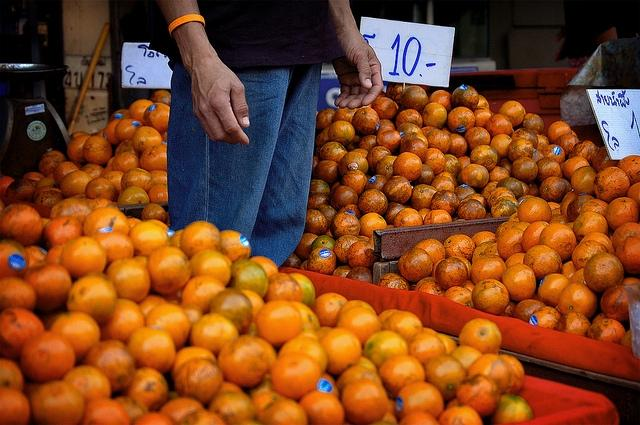orange: (44, 311, 102, 364), (216, 336, 270, 388), (84, 339, 136, 392), (66, 273, 118, 325), (20, 332, 74, 382), (172, 358, 224, 407), (269, 352, 321, 400), (30, 380, 84, 425), (21, 263, 70, 312), (126, 325, 176, 373), (0, 307, 45, 360), (145, 246, 192, 296), (145, 303, 192, 352), (256, 299, 303, 347), (339, 378, 388, 424), (122, 366, 170, 412), (190, 312, 240, 356), (456, 373, 502, 420), (99, 298, 145, 345), (378, 354, 426, 398), (276, 335, 328, 375), (208, 288, 253, 334), (59, 237, 107, 280), (106, 257, 150, 303), (335, 305, 381, 349), (424, 354, 468, 400), (318, 328, 362, 374), (61, 366, 112, 404), (88, 226, 134, 268), (0, 204, 44, 246), (363, 330, 409, 370), (468, 353, 512, 394), (226, 258, 268, 300), (181, 275, 226, 314), (396, 381, 442, 419), (179, 220, 222, 260), (583, 252, 625, 292), (299, 390, 346, 425), (538, 222, 578, 262), (170, 346, 217, 380), (190, 248, 232, 286), (128, 221, 170, 258), (460, 317, 502, 354), (208, 392, 256, 424), (82, 206, 132, 236), (557, 282, 597, 319), (406, 331, 446, 367), (472, 278, 509, 316), (310, 292, 349, 328), (382, 310, 422, 345), (523, 245, 563, 280), (336, 364, 384, 393), (594, 166, 630, 204), (43, 216, 83, 250), (80, 399, 131, 425), (256, 399, 308, 424), (502, 263, 536, 301), (158, 396, 204, 424), (262, 272, 302, 304), (1, 276, 37, 311), (398, 247, 433, 283), (492, 394, 534, 424), (605, 197, 640, 231), (0, 239, 29, 280), (51, 198, 92, 226), (0, 387, 30, 425), (600, 284, 630, 322), (32, 300, 70, 330), (538, 273, 570, 308), (573, 210, 608, 242), (470, 254, 507, 284), (112, 396, 150, 425), (434, 258, 468, 290), (572, 240, 608, 270), (220, 230, 252, 263), (449, 346, 482, 378), (500, 354, 525, 395), (136, 294, 170, 324), (587, 318, 626, 344), (289, 301, 321, 332), (412, 239, 446, 268), (288, 272, 315, 308), (496, 228, 526, 260), (517, 197, 552, 224), (347, 240, 379, 269), (554, 312, 591, 337), (522, 220, 550, 253), (60, 170, 93, 198), (616, 237, 640, 275), (393, 152, 423, 182), (330, 212, 361, 241), (579, 232, 616, 256), (85, 176, 119, 202), (120, 168, 154, 194), (306, 247, 336, 276), (132, 126, 162, 155), (314, 160, 343, 190), (444, 233, 475, 261), (143, 102, 170, 134), (0, 358, 25, 392), (535, 156, 563, 186), (351, 106, 381, 134), (566, 194, 596, 222), (612, 222, 640, 252), (470, 144, 500, 172), (358, 188, 388, 216), (430, 190, 461, 217), (513, 299, 547, 323), (616, 154, 640, 188), (240, 289, 264, 323), (528, 306, 562, 330), (83, 136, 112, 164), (383, 176, 412, 204), (338, 169, 368, 196), (437, 404, 482, 422), (571, 166, 598, 196), (175, 410, 228, 425), (139, 144, 167, 172), (539, 176, 567, 204), (334, 235, 361, 264), (38, 150, 68, 176), (338, 152, 368, 178), (4, 179, 36, 203), (400, 137, 428, 164), (511, 156, 538, 184), (592, 146, 620, 173), (450, 86, 480, 111), (411, 184, 438, 211), (571, 140, 598, 167), (498, 100, 524, 128), (359, 212, 387, 238), (330, 186, 358, 212), (54, 161, 82, 187), (67, 134, 92, 163), (115, 118, 144, 143), (399, 86, 428, 111), (422, 102, 448, 129), (302, 209, 328, 236), (448, 107, 476, 132), (328, 121, 356, 146), (294, 233, 318, 262), (249, 256, 278, 280), (314, 372, 340, 398), (422, 148, 447, 175), (563, 155, 590, 180), (485, 113, 513, 137), (428, 90, 456, 114), (461, 164, 489, 188), (487, 187, 516, 210), (444, 286, 474, 308), (112, 152, 142, 174), (367, 146, 392, 172), (464, 126, 491, 150), (507, 138, 534, 162), (496, 177, 524, 200), (491, 196, 520, 218), (316, 204, 338, 233), (376, 128, 402, 152), (409, 164, 435, 188), (552, 134, 580, 156), (320, 142, 348, 164), (458, 198, 486, 220), (102, 118, 124, 146), (34, 186, 62, 208), (377, 272, 411, 290), (118, 186, 150, 205), (128, 99, 152, 124), (394, 208, 424, 228), (444, 133, 468, 158), (546, 121, 572, 144), (426, 130, 450, 154), (249, 374, 273, 398), (382, 201, 406, 225), (399, 410, 440, 424), (182, 302, 204, 328), (371, 98, 397, 120), (580, 199, 609, 218), (132, 412, 177, 424), (520, 112, 544, 134), (490, 134, 512, 158), (377, 155, 398, 180), (103, 170, 124, 195), (512, 128, 538, 148), (464, 193, 490, 213), (396, 108, 422, 128), (309, 235, 336, 254), (67, 194, 99, 210), (472, 242, 495, 264), (346, 266, 373, 284), (416, 282, 446, 298), (316, 108, 336, 132), (364, 174, 388, 194), (217, 380, 245, 397), (560, 190, 578, 216), (44, 243, 66, 264), (436, 333, 457, 355), (542, 144, 565, 164), (442, 154, 461, 178), (471, 230, 496, 248), (141, 204, 166, 222), (333, 107, 358, 125), (400, 132, 428, 148), (496, 220, 518, 240), (473, 106, 493, 128), (424, 210, 453, 225), (116, 139, 140, 157), (431, 175, 455, 193), (308, 179, 330, 198), (356, 356, 378, 374), (397, 122, 423, 137), (80, 163, 104, 179), (24, 246, 48, 262), (315, 127, 329, 154), (147, 184, 168, 202), (488, 166, 511, 182), (560, 260, 578, 280), (150, 90, 172, 106), (504, 252, 526, 268), (454, 184, 476, 200), (481, 181, 499, 200), (568, 268, 587, 286), (358, 134, 377, 152), (280, 254, 302, 269), (376, 119, 396, 135), (482, 242, 502, 258), (0, 176, 15, 197), (314, 327, 335, 342), (626, 182, 640, 204), (378, 309, 399, 323), (23, 382, 44, 396), (148, 170, 167, 185), (528, 179, 542, 198), (157, 293, 181, 304), (332, 266, 353, 278), (620, 328, 632, 348), (110, 109, 130, 121), (22, 172, 46, 182), (457, 155, 471, 172), (536, 134, 550, 150), (388, 398, 398, 419), (126, 215, 142, 228), (532, 148, 545, 162), (478, 95, 490, 109), (422, 327, 439, 335), (623, 277, 639, 285), (508, 212, 520, 222), (548, 202, 560, 211), (159, 130, 167, 142), (441, 128, 452, 134)
